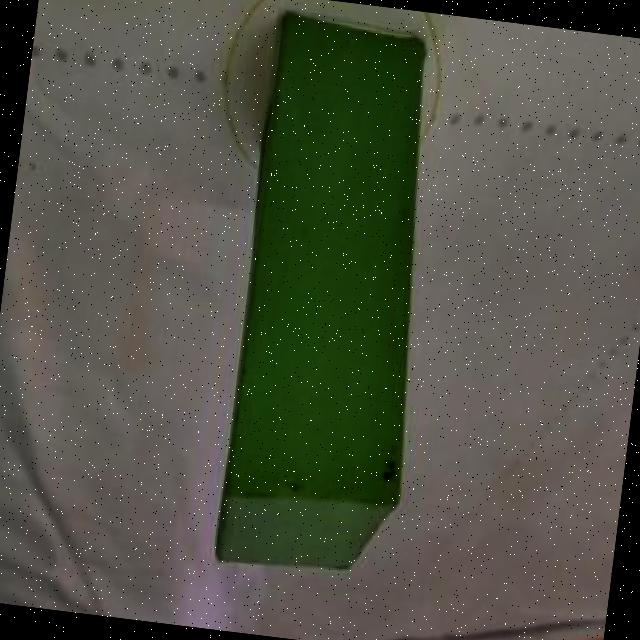greenbox: (210, 15, 458, 582)
